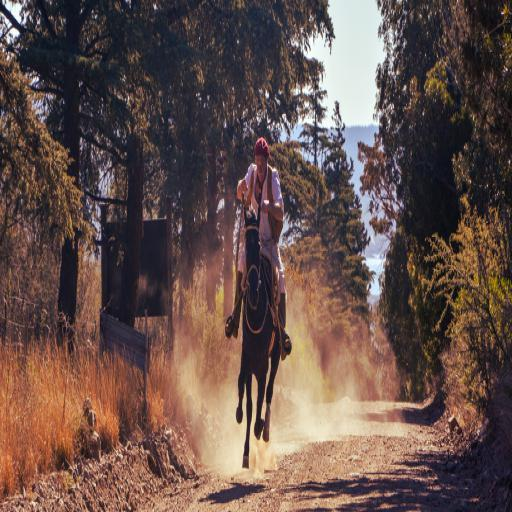horse: (234, 198, 281, 468)
